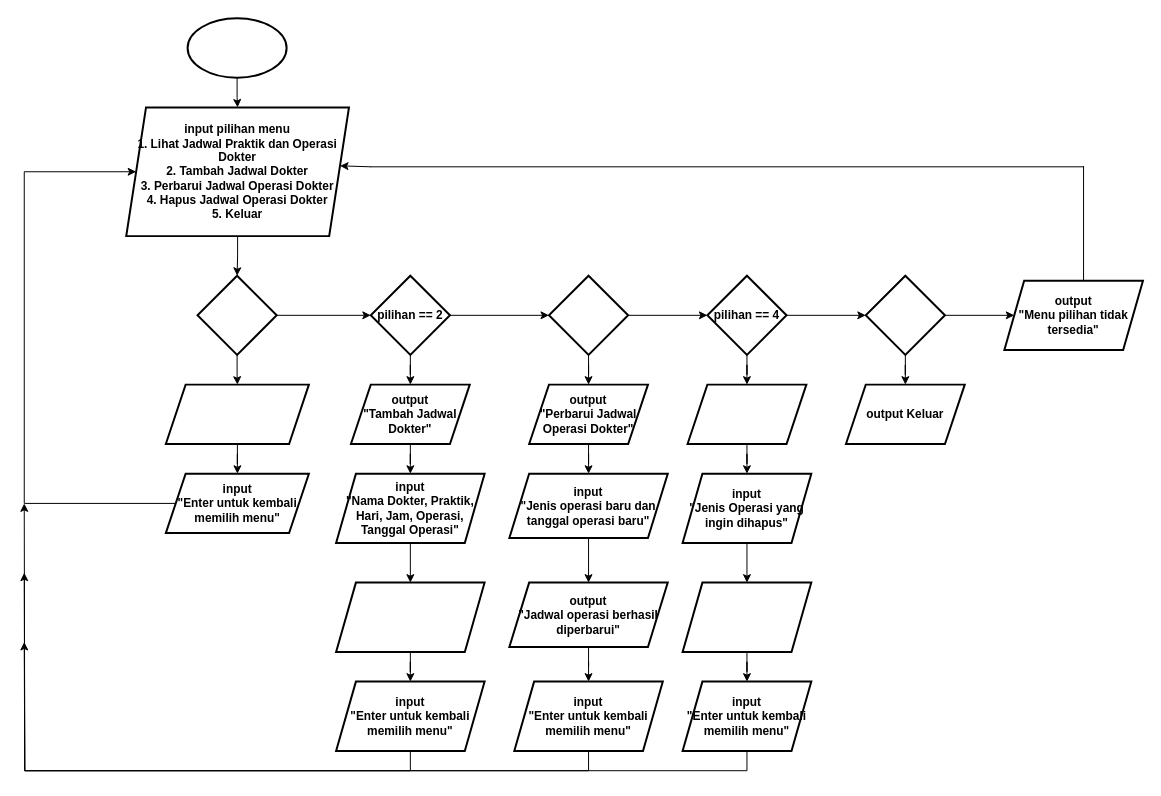
The diagram is 1161 pixels wide and 796 high, and some of its shapes have lost their labels. Each missing label, with the box of its shape:
mulai: (186, 17, 287, 78)
output "Hapus Jadwal Operasi": (686, 383, 807, 445)
output "Jadwal dokter berhasil ditambahkan": (335, 581, 485, 652)
output "Jadwal operasi berhasil dihapus": (681, 581, 812, 652)
output "Lihat Jadwal Dokter": (164, 383, 309, 445)
pilihan == 1: (196, 274, 277, 355)
pilihan == 3: (547, 274, 629, 355)
pilihan == 5: (864, 274, 945, 355)
